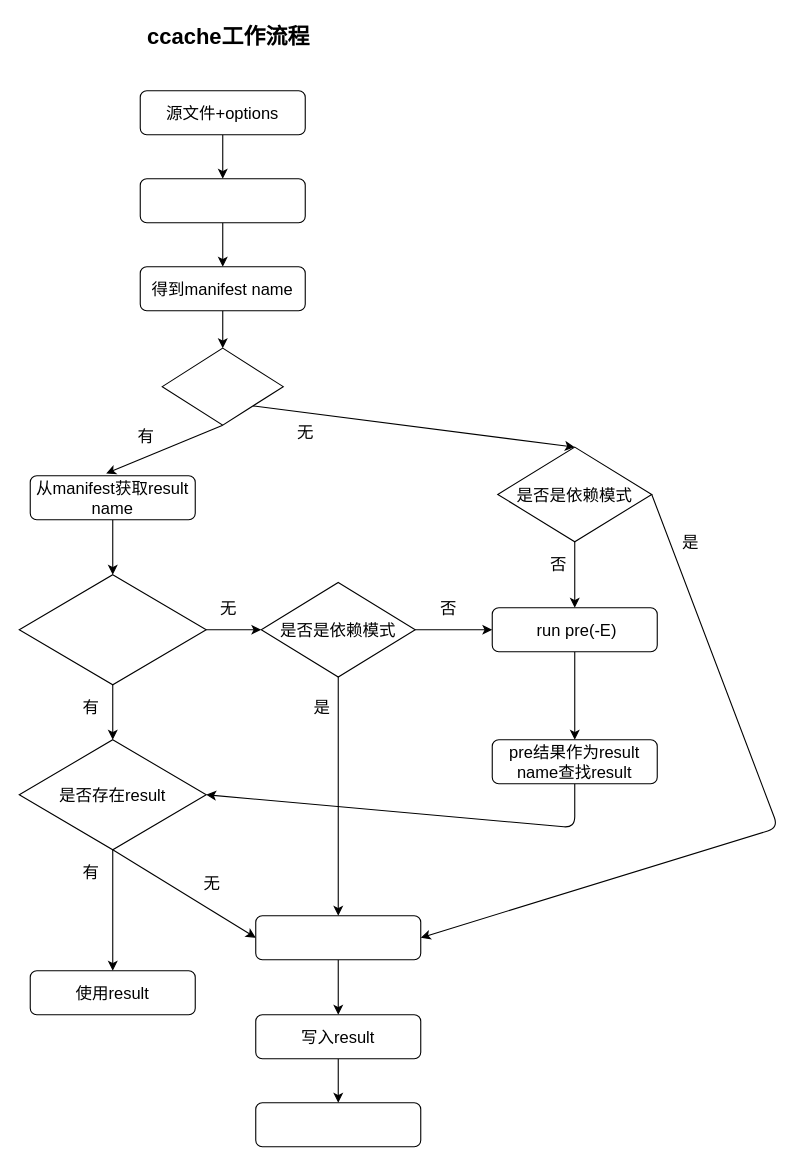
This 806x1166 diagram has some shape labels left out. Each missing label, with the box of its shape:
Hash(输入参数+环境): (139, 178, 305, 223)
run real compile: (255, 915, 421, 960)
写入result name到manifest: (255, 1102, 421, 1147)
是否存在: (161, 347, 283, 425)
是否存在result name: (18, 574, 206, 685)
